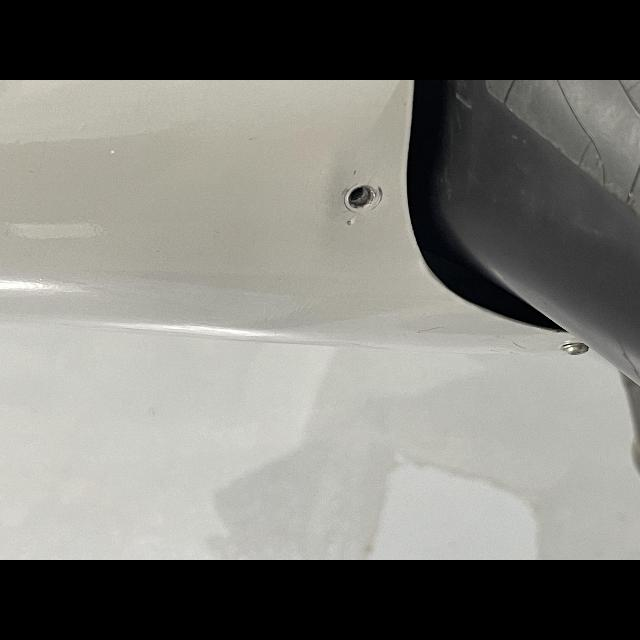Missing Fastener: (342, 183, 382, 215)
